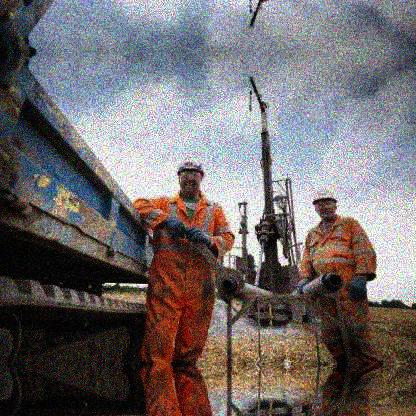helmet: (176, 155, 207, 195), (312, 187, 339, 220)
